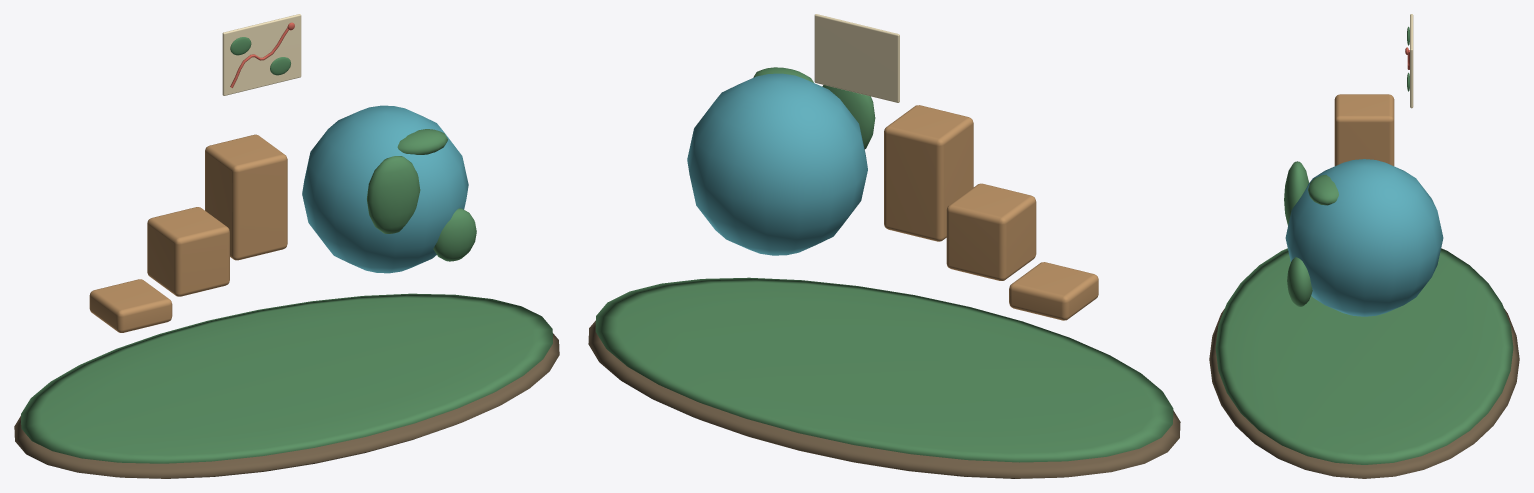
The model's file is complete-third-second-continent-map.glb.
3 renders of one model, left to right at view 1: azimuth 30°, elevation 25°; view 2: azimuth 150°, elevation 25°; view 3: azimuth 270°, elevation 25°, orthographic. The views are drawn at different scales.
Parts seen in each view (by area): view 1: complete-third-second-continent-map_surface_01, complete-third-second-continent-map_surface_02, complete-third-second-continent-map_surface_03, complete-third-second-continent-map_surface_00, complete-third-second-continent-map_surface_04; view 2: complete-third-second-continent-map_surface_01, complete-third-second-continent-map_surface_03, complete-third-second-continent-map_surface_02, complete-third-second-continent-map_surface_00, complete-third-second-continent-map_surface_04; view 3: complete-third-second-continent-map_surface_01, complete-third-second-continent-map_surface_03, complete-third-second-continent-map_surface_00, complete-third-second-continent-map_surface_02, complete-third-second-continent-map_surface_04.
Boxes of the visible parts, x1,y1,x2,y2 form: complete-third-second-continent-map_surface_01: (21,37,552,463); complete-third-second-continent-map_surface_02: (89,134,287,332); complete-third-second-continent-map_surface_03: (302,105,468,273); complete-third-second-continent-map_surface_00: (14,333,559,478); complete-third-second-continent-map_surface_04: (222,14,301,95); complete-third-second-continent-map_surface_01: (595,67,1173,462); complete-third-second-continent-map_surface_03: (687,73,867,255); complete-third-second-continent-map_surface_02: (884,105,1098,320); complete-third-second-continent-map_surface_00: (588,320,1180,478); complete-third-second-continent-map_surface_04: (814,14,899,102); complete-third-second-continent-map_surface_01: (1215,26,1513,464); complete-third-second-continent-map_surface_03: (1285,159,1443,316); complete-third-second-continent-map_surface_00: (1209,308,1519,478); complete-third-second-continent-map_surface_02: (1334,94,1394,165); complete-third-second-continent-map_surface_04: (1410,14,1413,108).
Size of the model in its own units: 4.56 by 3.04 by 2.5.
